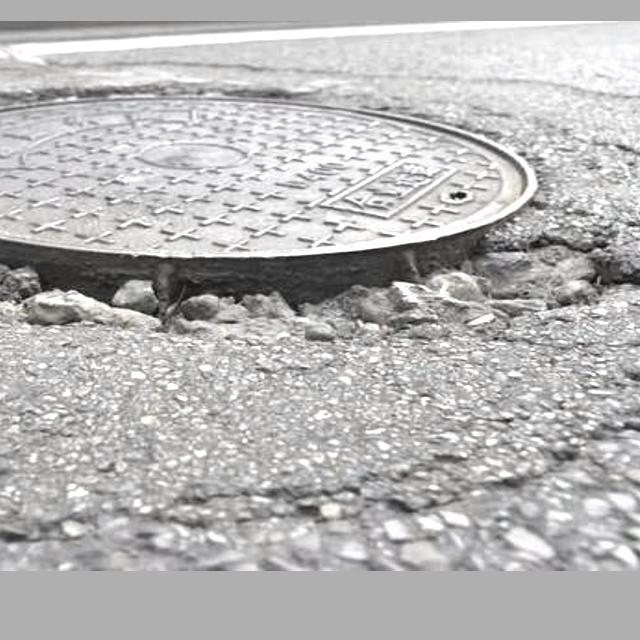circle: (0, 73, 640, 371)
